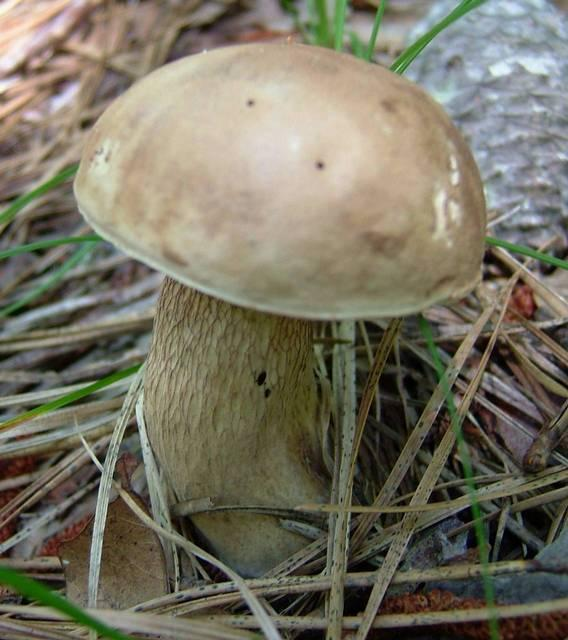poisonous_mushroom: (71, 38, 488, 579)
